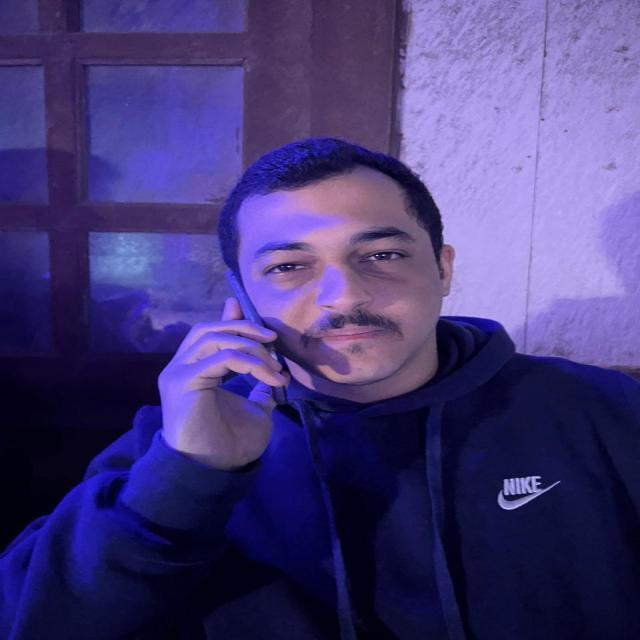phone: (225, 272, 288, 410)
